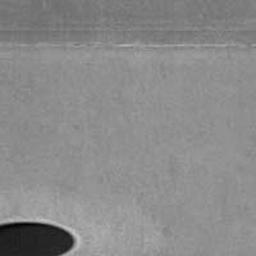Punching: (0, 223, 76, 256)
